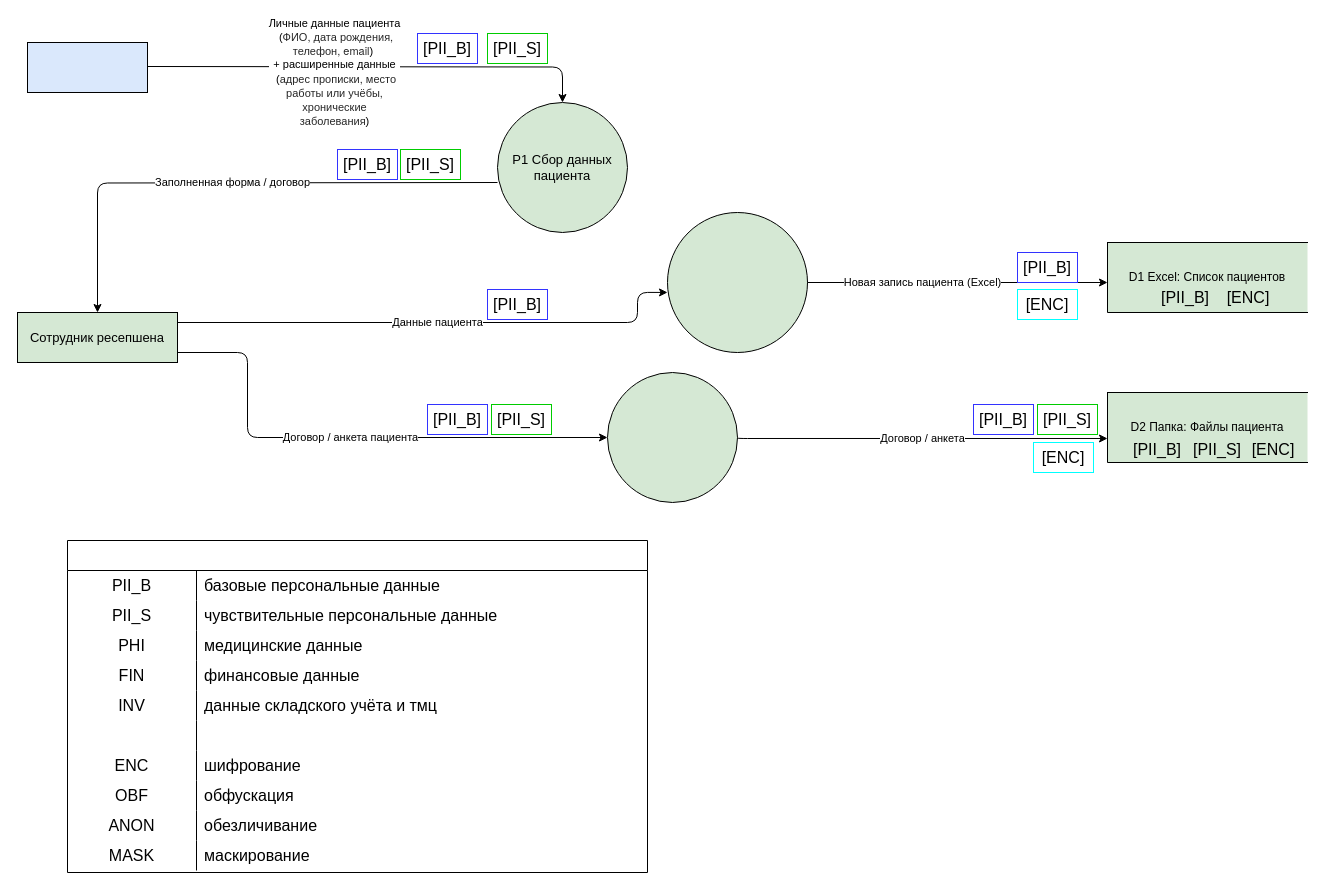
Some shapes in this 1325 by 891 pixel diagram are drawn without their labels. Each missing label, with the box of its shape:
P2 Регистрация пациента в системе: (666, 212, 808, 352)
P3 Сохранение документов: (606, 372, 738, 502)
Значения тегов: (66, 540, 648, 872)
Пациент: (26, 42, 148, 92)
